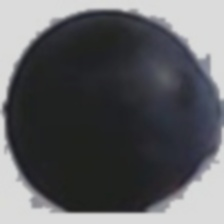grapes: (12, 20, 186, 209)
